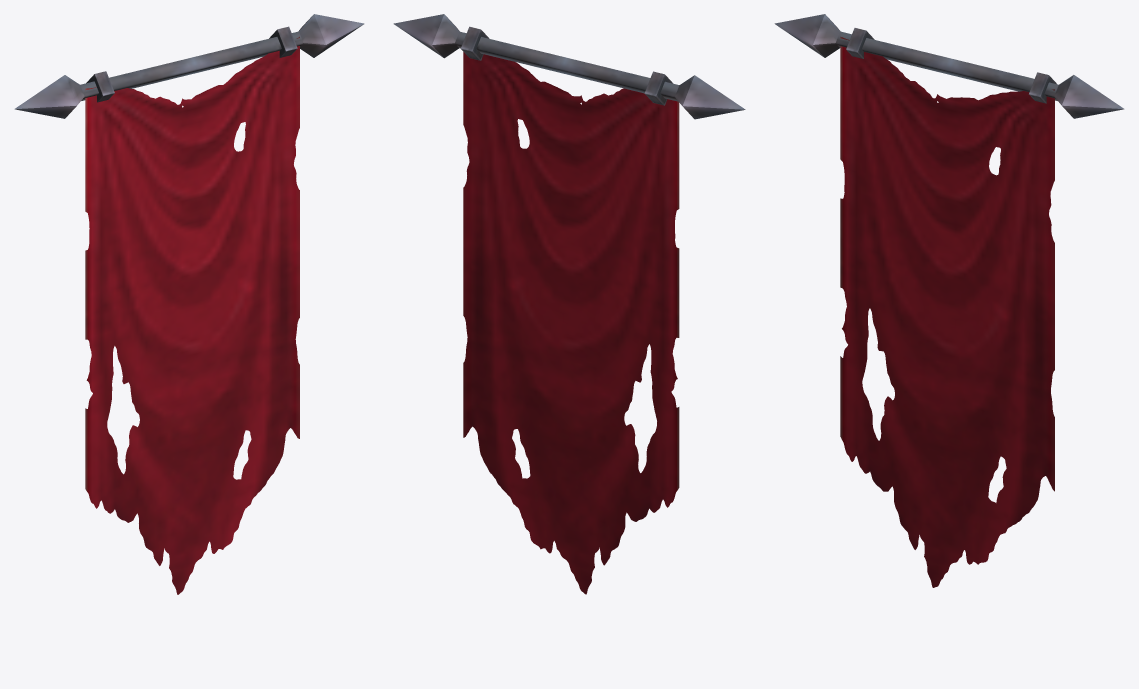
The model's file is dungeon_1.FBX.
3 renders of one model, left to right at view 1: azimuth 30°, elevation 25°; view 2: azimuth 150°, elevation 25°; view 3: azimuth 330°, elevation 25°, orthographic.
Visible parts, largest first — view 1: dungeon_1; view 2: dungeon_1; view 3: dungeon_1.
Part boxes in pixels (x1,y1,x2,y2): dungeon_1: (14, 14, 364, 594); dungeon_1: (393, 14, 745, 594); dungeon_1: (774, 14, 1124, 587).
Size of the model in its own units: 91.1 by 150 by 10.96.
